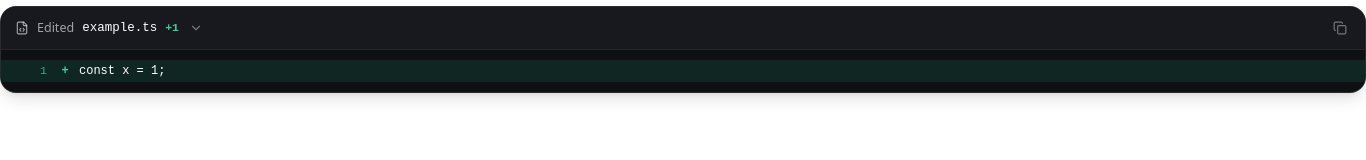
Test case: DiffViewer › handles collapse and expand when header is clicked
Expected: the text "const x = 1;" is shown, top-left (79, 64), bottom-right (165, 78)
Note: Click header to collapse
Click the text "example.ts" at (120, 28), box top-left (82, 19), bottom-right (157, 37)
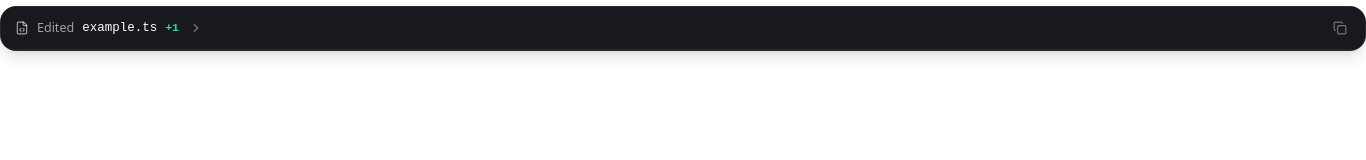
Now the text "const x = 1;" is gone
